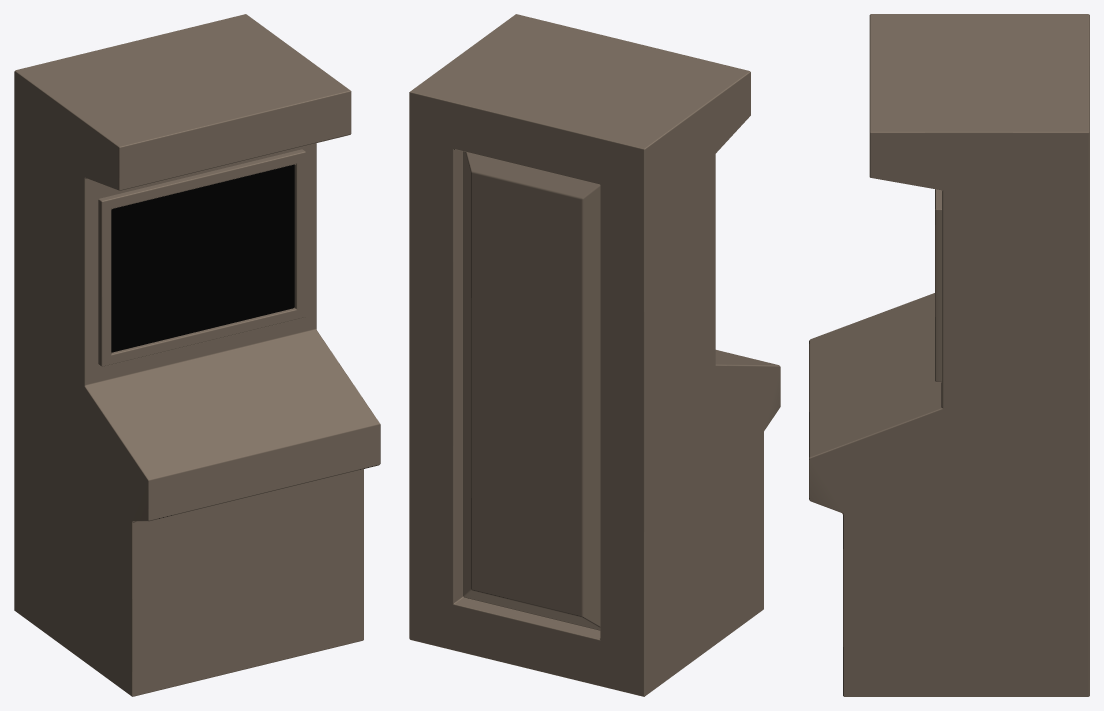
File: Contract Machine.fbx
3 views of the same model, side by side, from view 1: azimuth 30°, elevation 25°; view 2: azimuth 150°, elevation 25°; view 3: azimuth 270°, elevation 25° (orthographic). The views are drawn at different scales.
Parts seen in each view (by area): view 1: Contract Machine, Screen; view 2: Contract Machine; view 3: Contract Machine.
Boxes of the visible parts, box(x1,y1,x2,y2) form: Contract Machine: box(14, 14, 380, 696); Screen: box(111, 164, 294, 352); Contract Machine: box(409, 14, 780, 696); Contract Machine: box(809, 14, 1089, 696).
Bounding box in the file's own units: 0.9 × 0.9 × 2.
